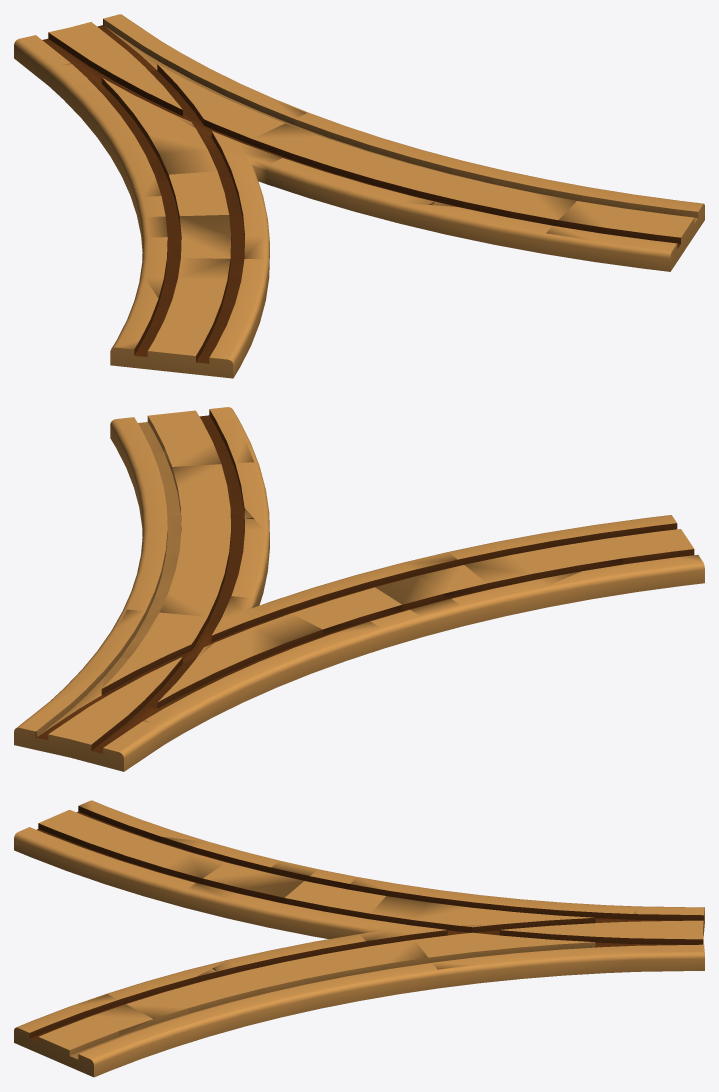
File: JunctionY.fbx
The picture shows the model from 3 angles, top to bottom: view 1: azimuth 30°, elevation 25°; view 2: azimuth 150°, elevation 25°; view 3: azimuth 270°, elevation 25°; orthographic projection. The views are drawn at different scales.
Parts seen in each view (by area): view 1: JunctionY; view 2: JunctionY; view 3: JunctionY.
Part boxes in pixels (x1=…): JunctionY: x1=14, y1=14, x2=704, y2=378; JunctionY: x1=14, y1=407, x2=704, y2=771; JunctionY: x1=14, y1=800, x2=704, y2=1077.
Size of the model in its own units: 5.4 by 0.16 by 6.02.
